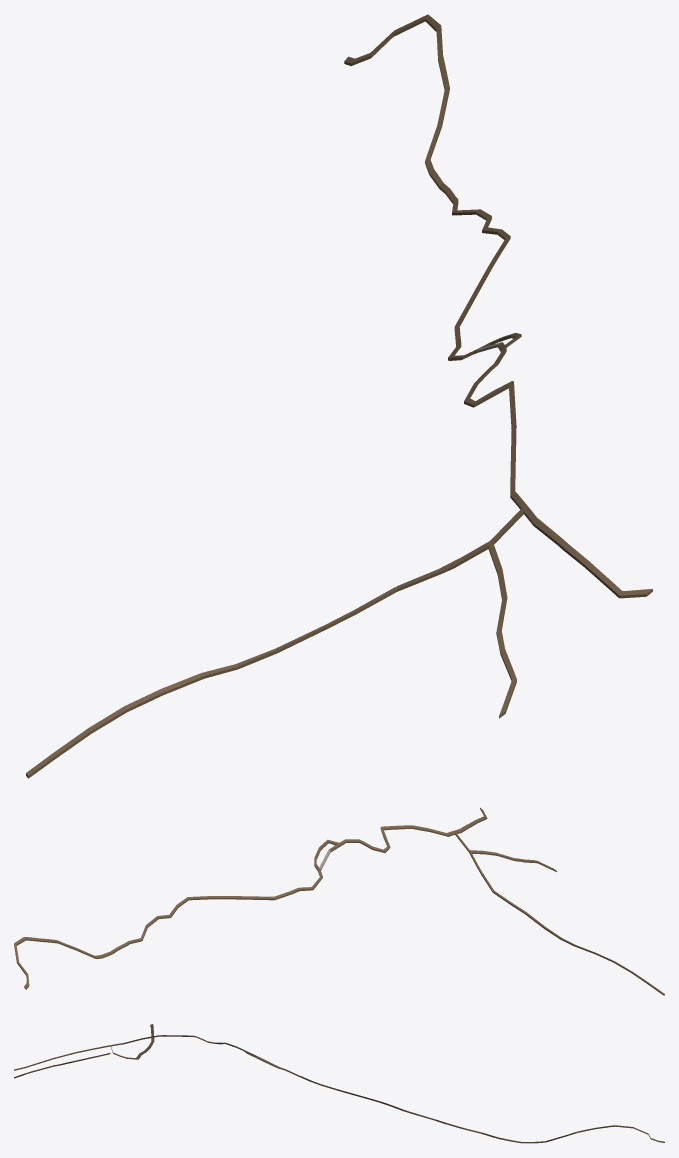
The picture shows the model from 3 angles, top to bottom: view 1: azimuth 30°, elevation 25°; view 2: azimuth 150°, elevation 25°; view 3: azimuth 270°, elevation 25°; orthographic projection. The views are drawn at different scales.
Bounding box in the file's own units: 236 × 63.23 × 292.
